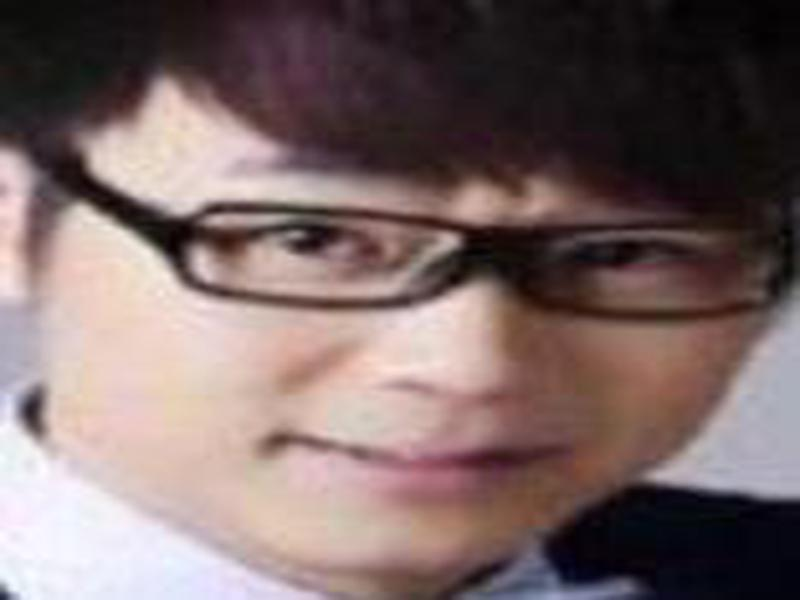without_mask: (106, 70, 780, 585)
